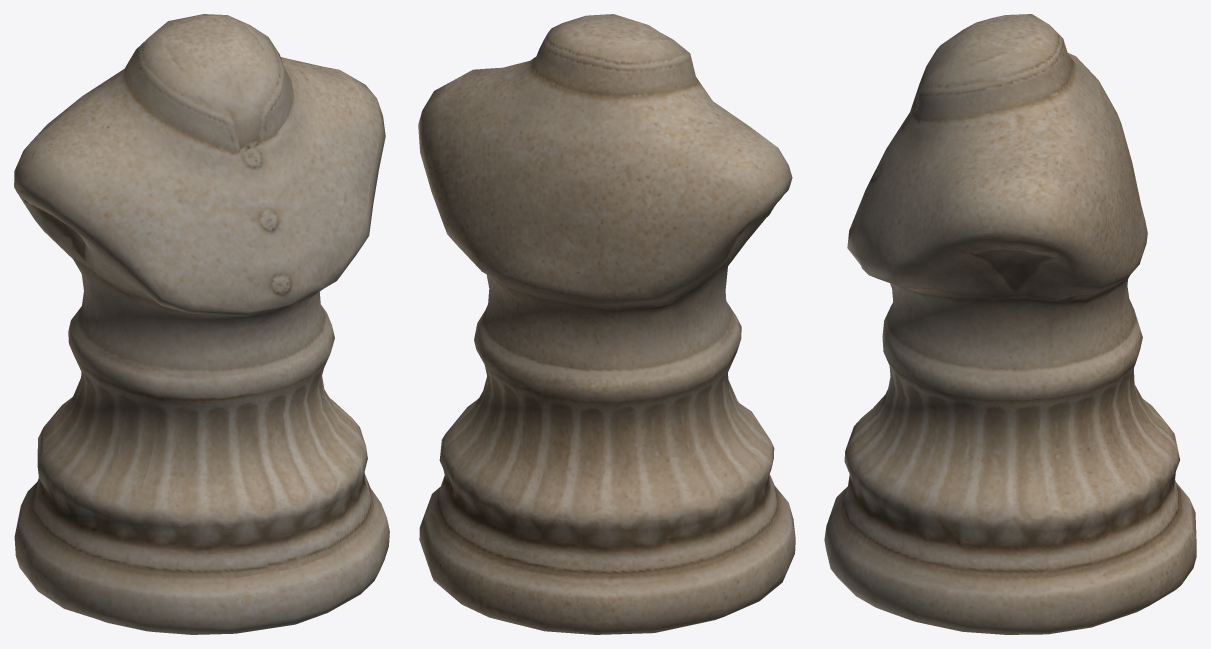
File: NPC_Body_03.fbx
The picture shows the model from 3 angles, left to right: view 1: azimuth 30°, elevation 25°; view 2: azimuth 150°, elevation 25°; view 3: azimuth 270°, elevation 25°; orthographic projection.
Visible parts, largest first — view 1: NPC_Body_03; view 2: NPC_Body_03; view 3: NPC_Body_03.
Part boxes in pixels (left/top/right/bottom): NPC_Body_03: left=14, top=14, right=389, bottom=634; NPC_Body_03: left=418, top=14, right=795, bottom=634; NPC_Body_03: left=824, top=14, right=1196, bottom=634.
Bounding box in the file's own units: 68.36 × 99.74 × 62.85.
